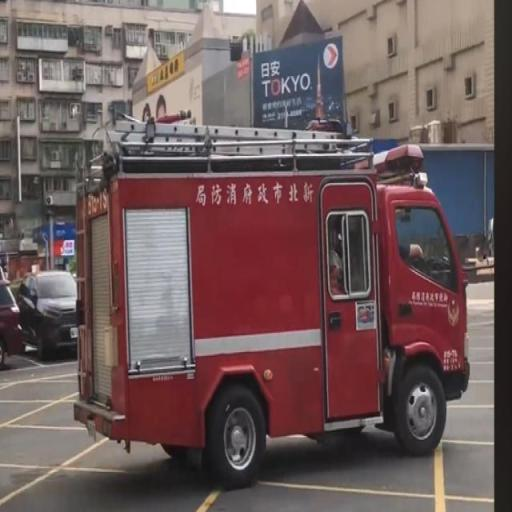fire truck: (73, 115, 467, 486)
